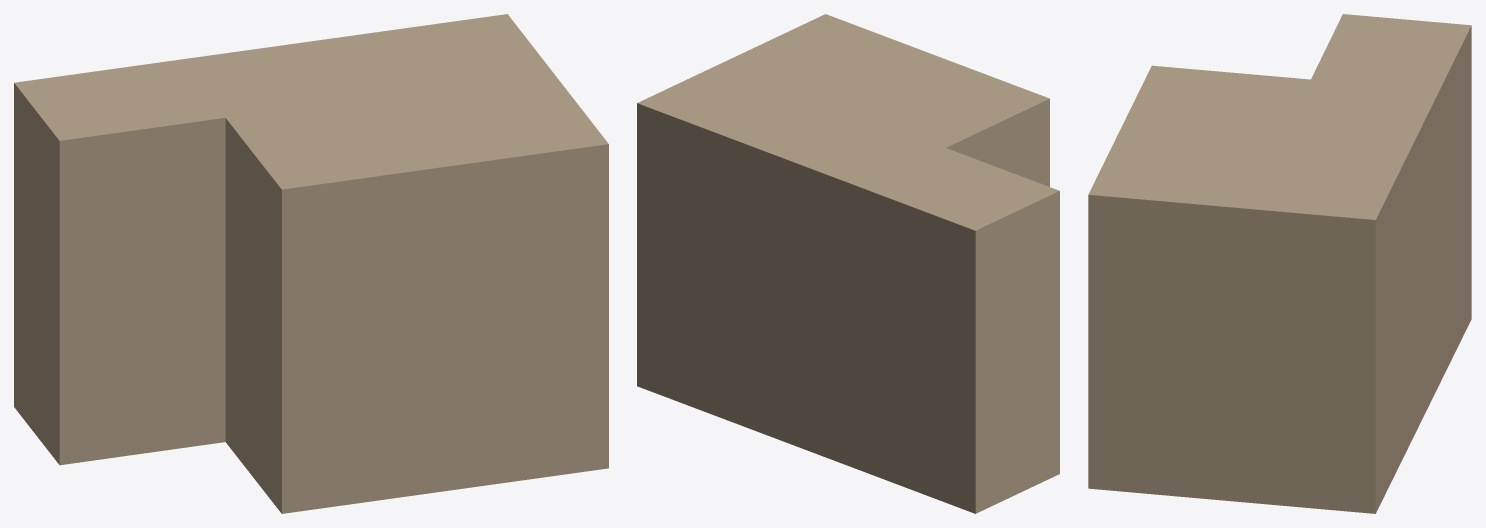
The model's file is bld_100469328.dae.
3 renders of one model, left to right at view 1: azimuth 30°, elevation 25°; view 2: azimuth 150°, elevation 25°; view 3: azimuth 270°, elevation 25°, orthographic. The views are drawn at different scales.
Visible parts, largest first — view 1: bld_100469328; view 2: bld_100469328; view 3: bld_100469328.
Boxes of the visible parts, box(x1,y1,x2,y2) form: bld_100469328: box(14, 14, 608, 513); bld_100469328: box(637, 14, 1059, 513); bld_100469328: box(1088, 14, 1471, 513).
Bounding box in the file's own units: 12.03 × 9.46 × 8.
